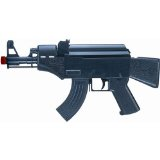rifle: (2, 33, 158, 123)
